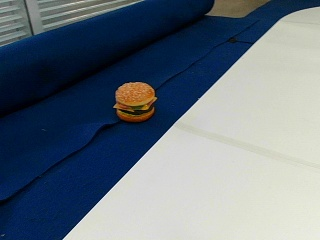burger: (113, 80, 156, 120)
